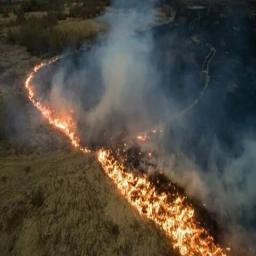Low smoke: (0, 0, 247, 220)
Medium fire: (11, 38, 233, 256)
